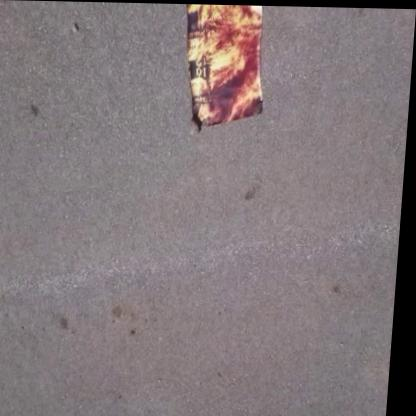fire-poster: (177, 4, 272, 133)
